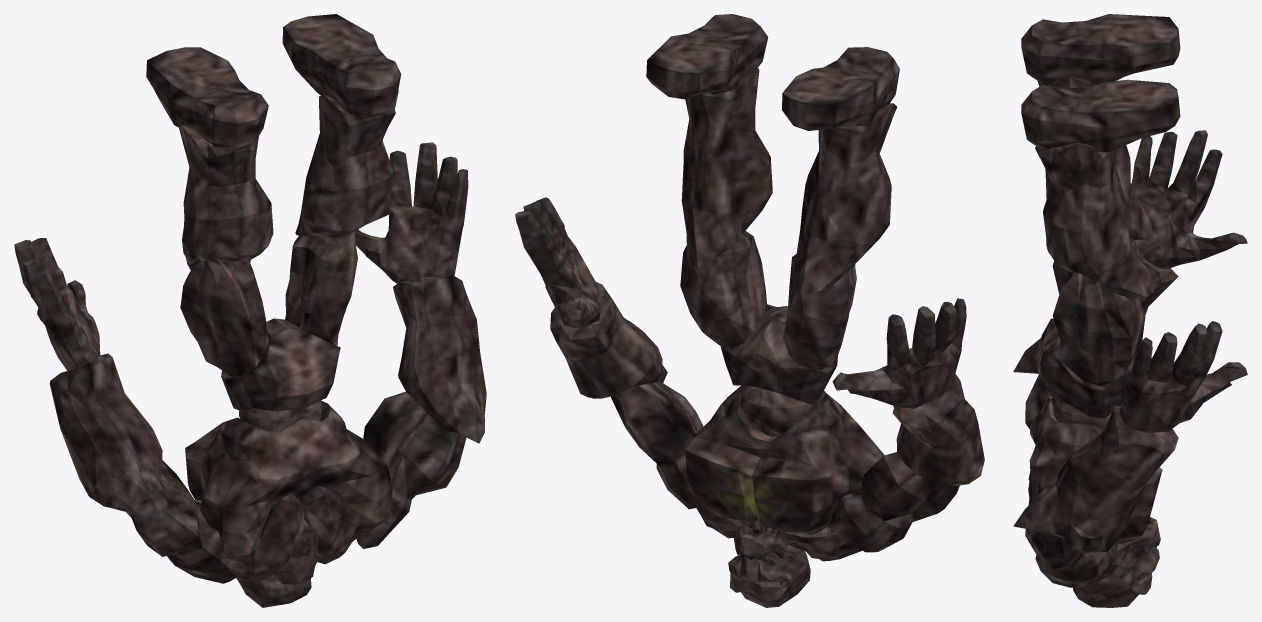
File: golem.glb
3 views of the same model, side by side, from view 1: azimuth 30°, elevation 25°; view 2: azimuth 150°, elevation 25°; view 3: azimuth 270°, elevation 25° (orthographic).
Visible parts, largest first — view 1: golem.obj; view 2: golem.obj; view 3: golem.obj.
Boxes of the visible parts, x1=… form: golem.obj: x1=14, y1=14, x2=486, y2=607; golem.obj: x1=515, y1=14, x2=984, y2=607; golem.obj: x1=1013, y1=14, x2=1247, y2=607.
Bounding box in the file's own units: 0.8345 × 0.9963 × 0.393.
Materials: 1 (1 with a texture image).
